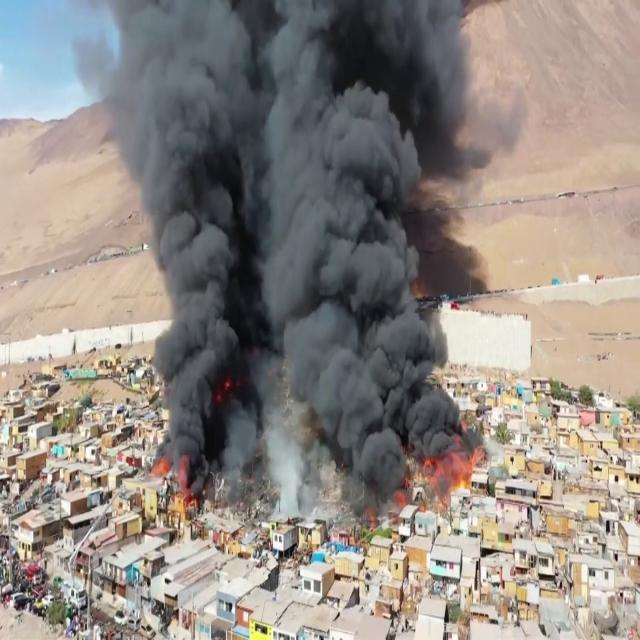Fire: (136, 459, 195, 532), (406, 447, 484, 501)
Smoke: (82, 1, 526, 487)
